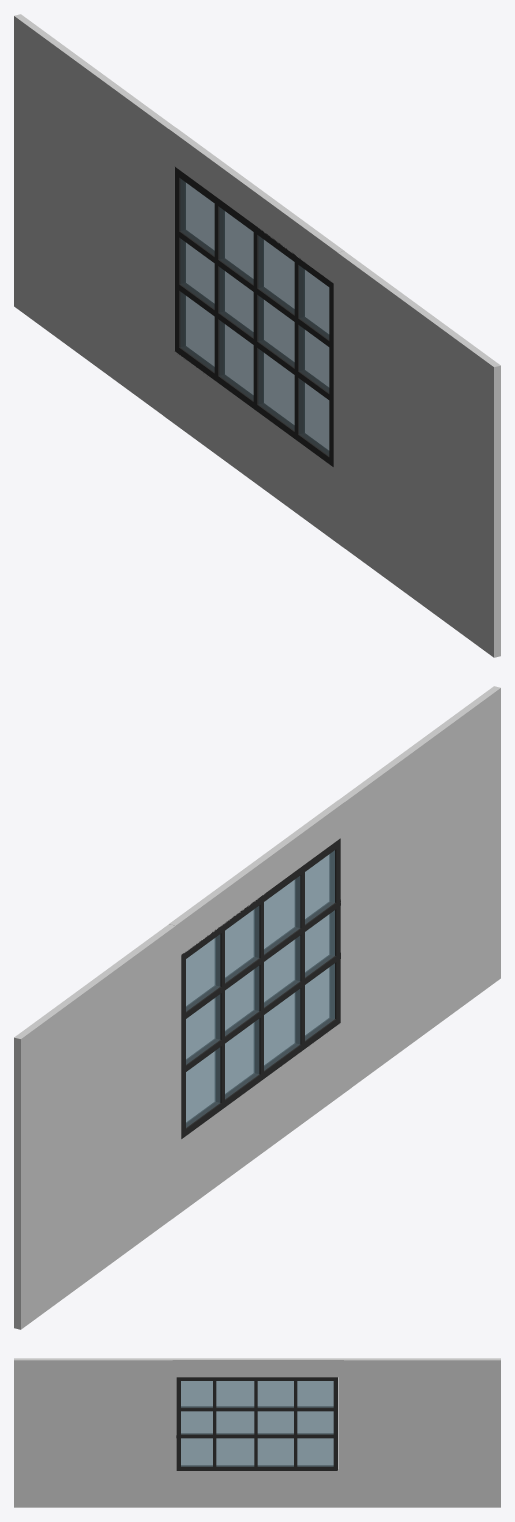
File: windows1.fbx
3 views of the same model, one above another, from view 1: azimuth 30°, elevation 25°; view 2: azimuth 150°, elevation 25°; view 3: azimuth 270°, elevation 25° (orthographic). The views are drawn at different scales.
Parts seen in each view (by area): view 1: Cube.003, Cube.005, Cube.004; view 2: Cube.003, Cube.005, Cube.004; view 3: Cube.003, Cube.005, Cube.004.
Boxes of the visible parts, left/top/right/bottom form: Cube.003: left=14, top=14, right=500, bottom=657; Cube.005: left=180, top=178, right=329, bottom=455; Cube.004: left=174, top=167, right=333, bottom=466; Cube.003: left=14, top=686, right=500, bottom=1329; Cube.005: left=186, top=850, right=334, bottom=1127; Cube.004: left=181, top=838, right=340, bottom=1138; Cube.003: left=14, top=1358, right=500, bottom=1507; Cube.005: left=181, top=1381, right=333, bottom=1466; Cube.004: left=176, top=1377, right=337, bottom=1470.
Size of the model in its own units: 24.92 by 1004 by 3003.
